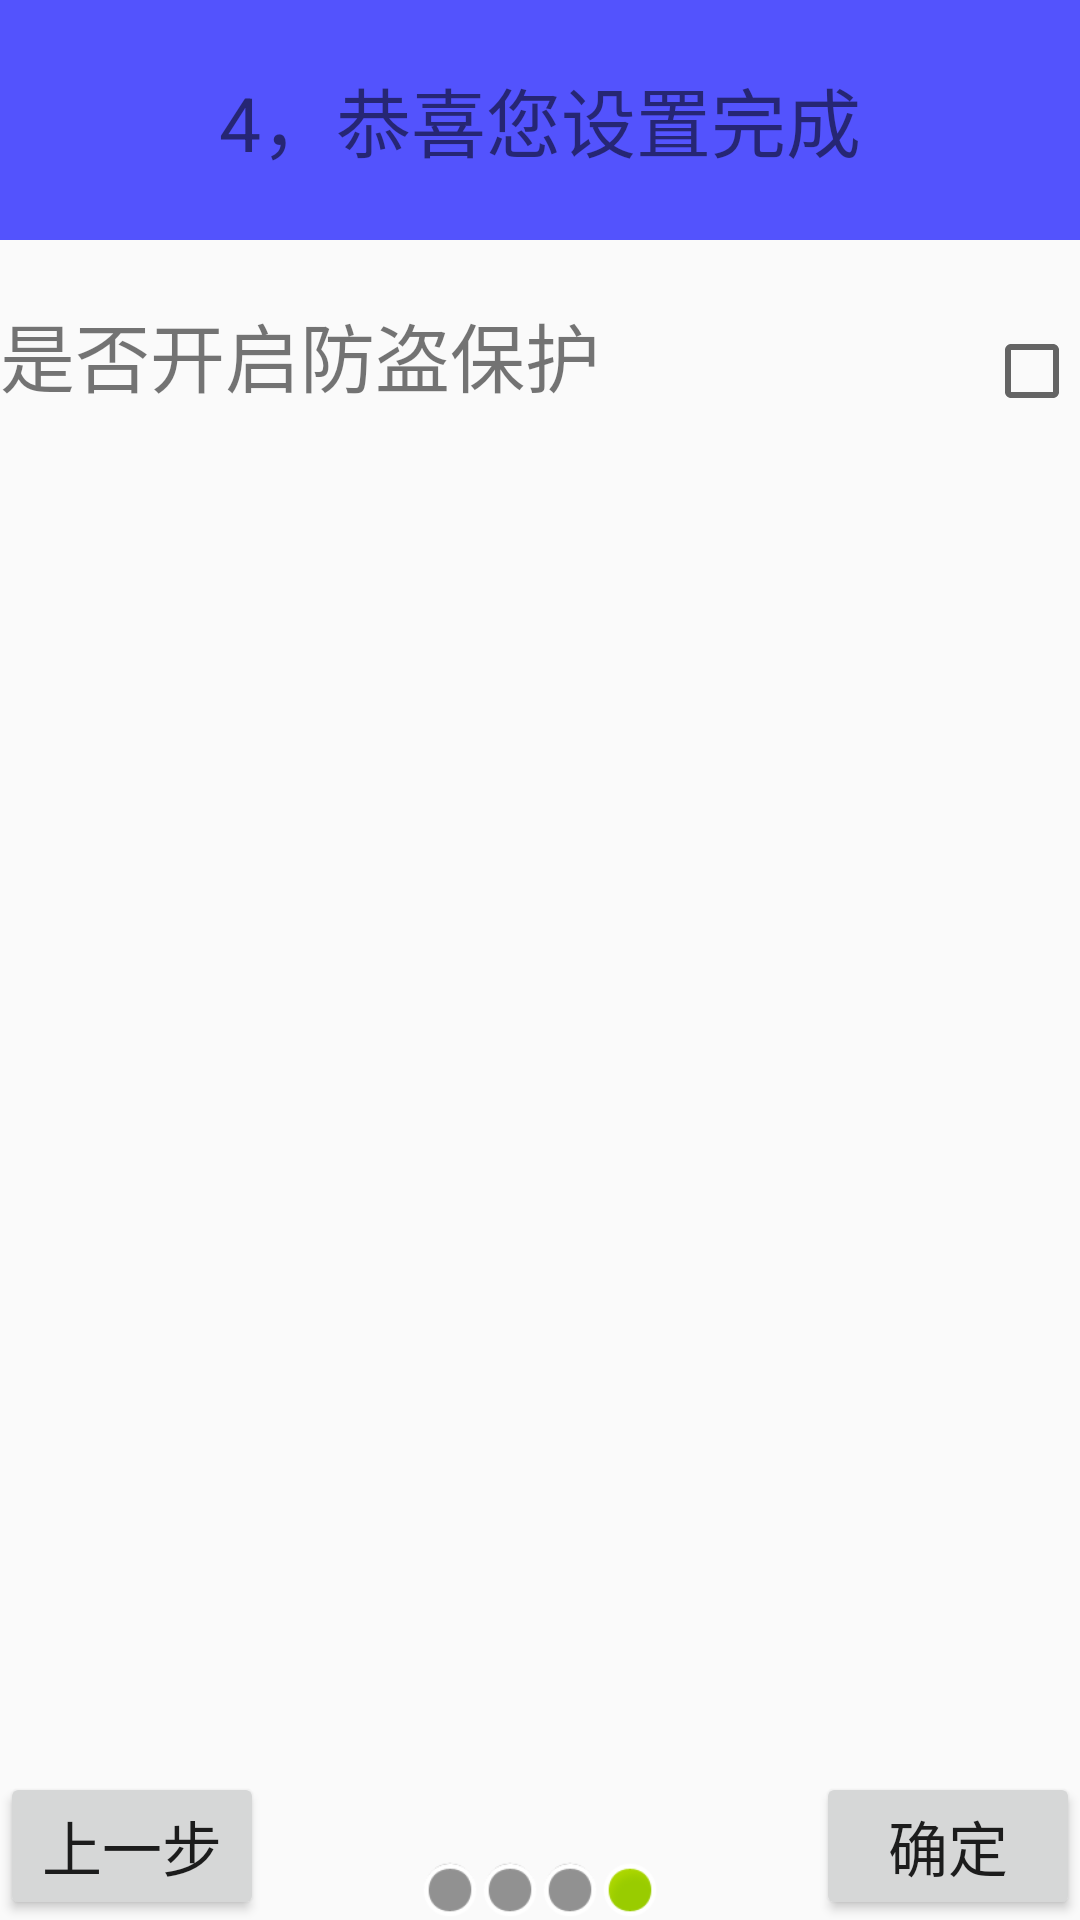

Where icons sit on this 1080 x 1920 app screen, as (x1, y1, x2, y2):
presence invisible: (428, 1864, 472, 1912), (488, 1864, 532, 1912), (548, 1864, 592, 1912)
presence online: (608, 1868, 652, 1912)
